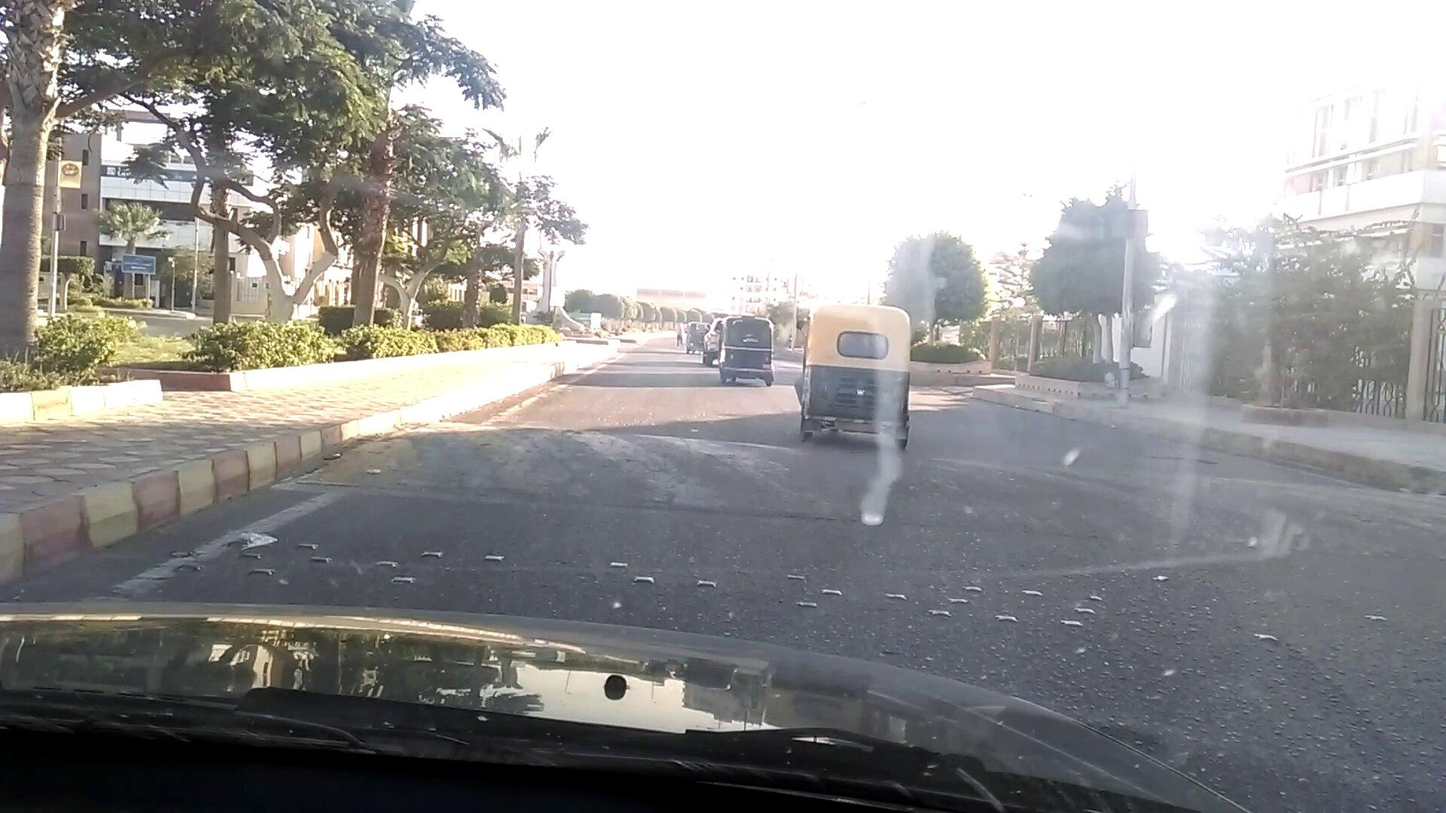Bump: (277, 416, 1445, 555)
